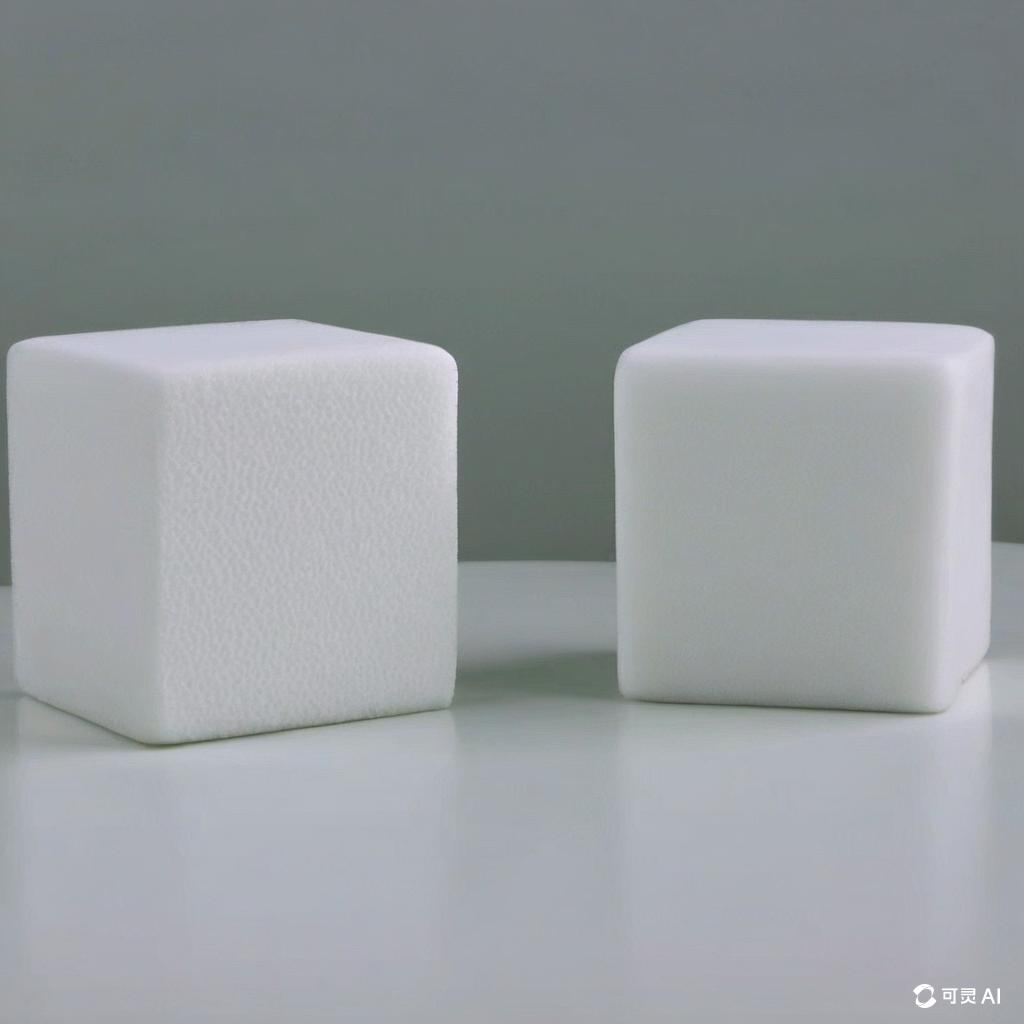cube: (5, 315, 459, 745), (612, 316, 994, 714)
